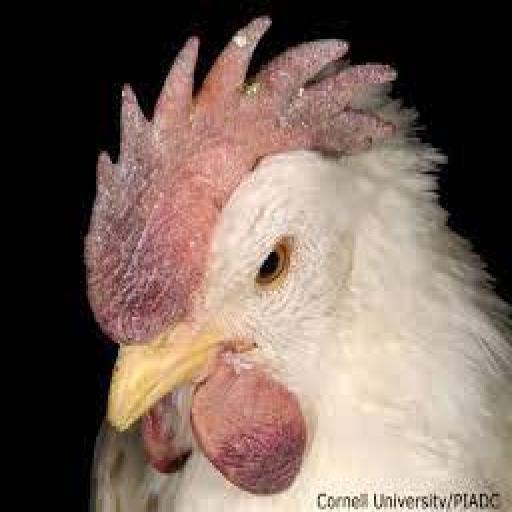disease: (204, 0, 411, 156), (194, 385, 389, 499)
